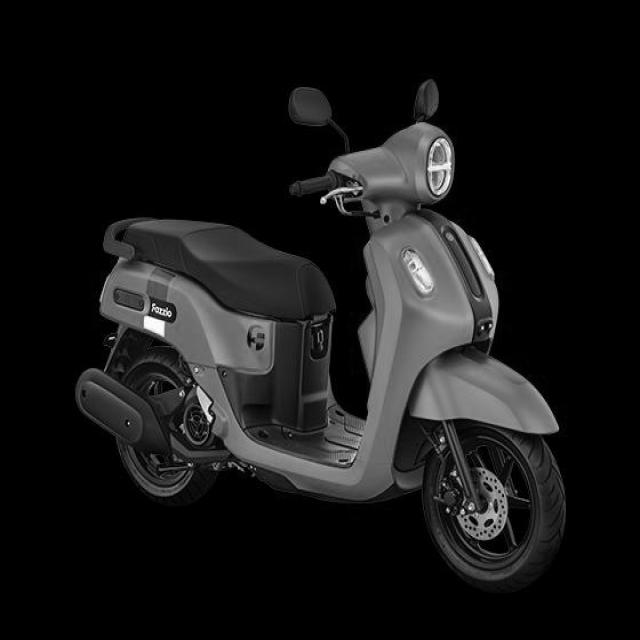Motorcycle: (75, 80, 567, 594)
